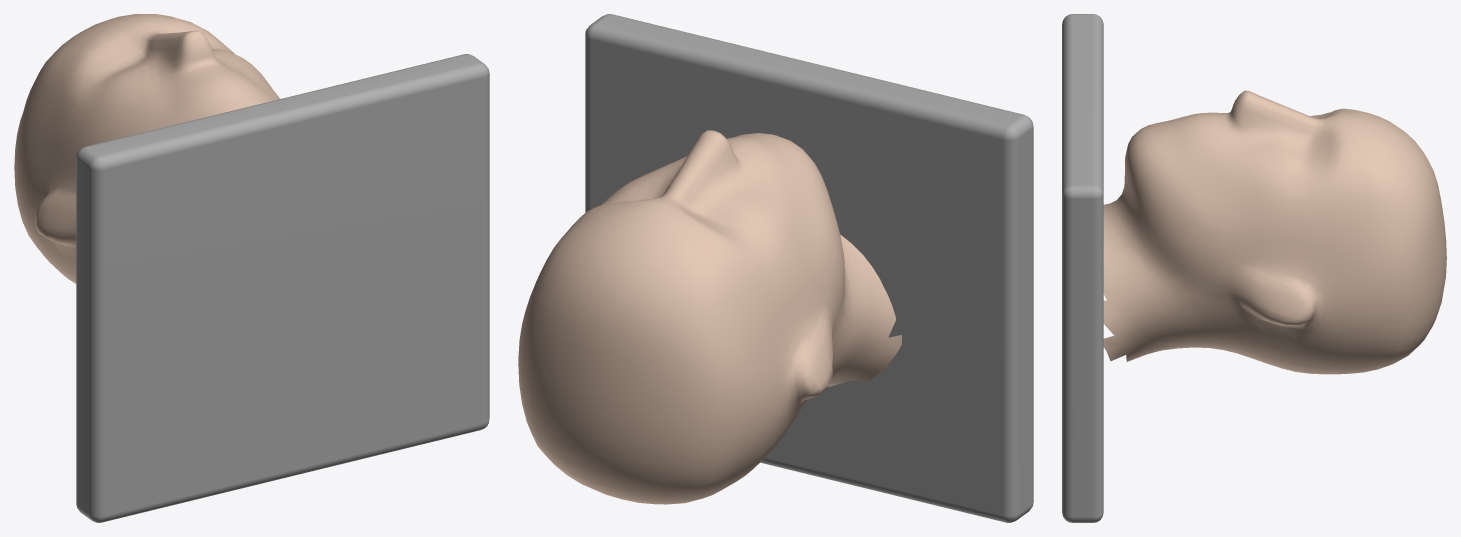
Rendered from HumanFace_LastBoss.fbx.
3 views of the same model, side by side, from view 1: azimuth 30°, elevation 25°; view 2: azimuth 150°, elevation 25°; view 3: azimuth 270°, elevation 25° (orthographic). The views are drawn at different scales.
Parts seen in each view (by area): view 1: polySurface2; view 2: polySurface2; view 3: polySurface2.
Part boxes in pixels (left/top/right/bottom): polySurface2: left=14, top=14, right=489, bottom=522; polySurface2: left=518, top=14, right=1033, bottom=522; polySurface2: left=1062, top=14, right=1446, bottom=522.
Size of the model in its own units: 43.34 by 38.87 by 39.37.
